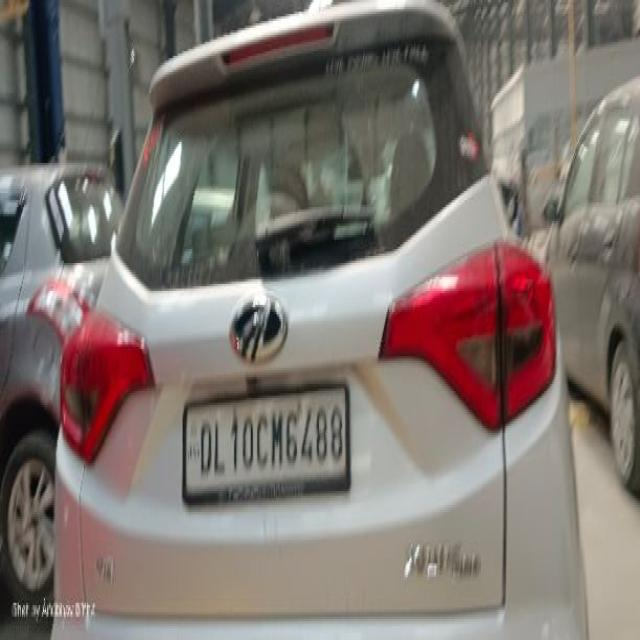license_plate: (181, 379, 351, 503)
